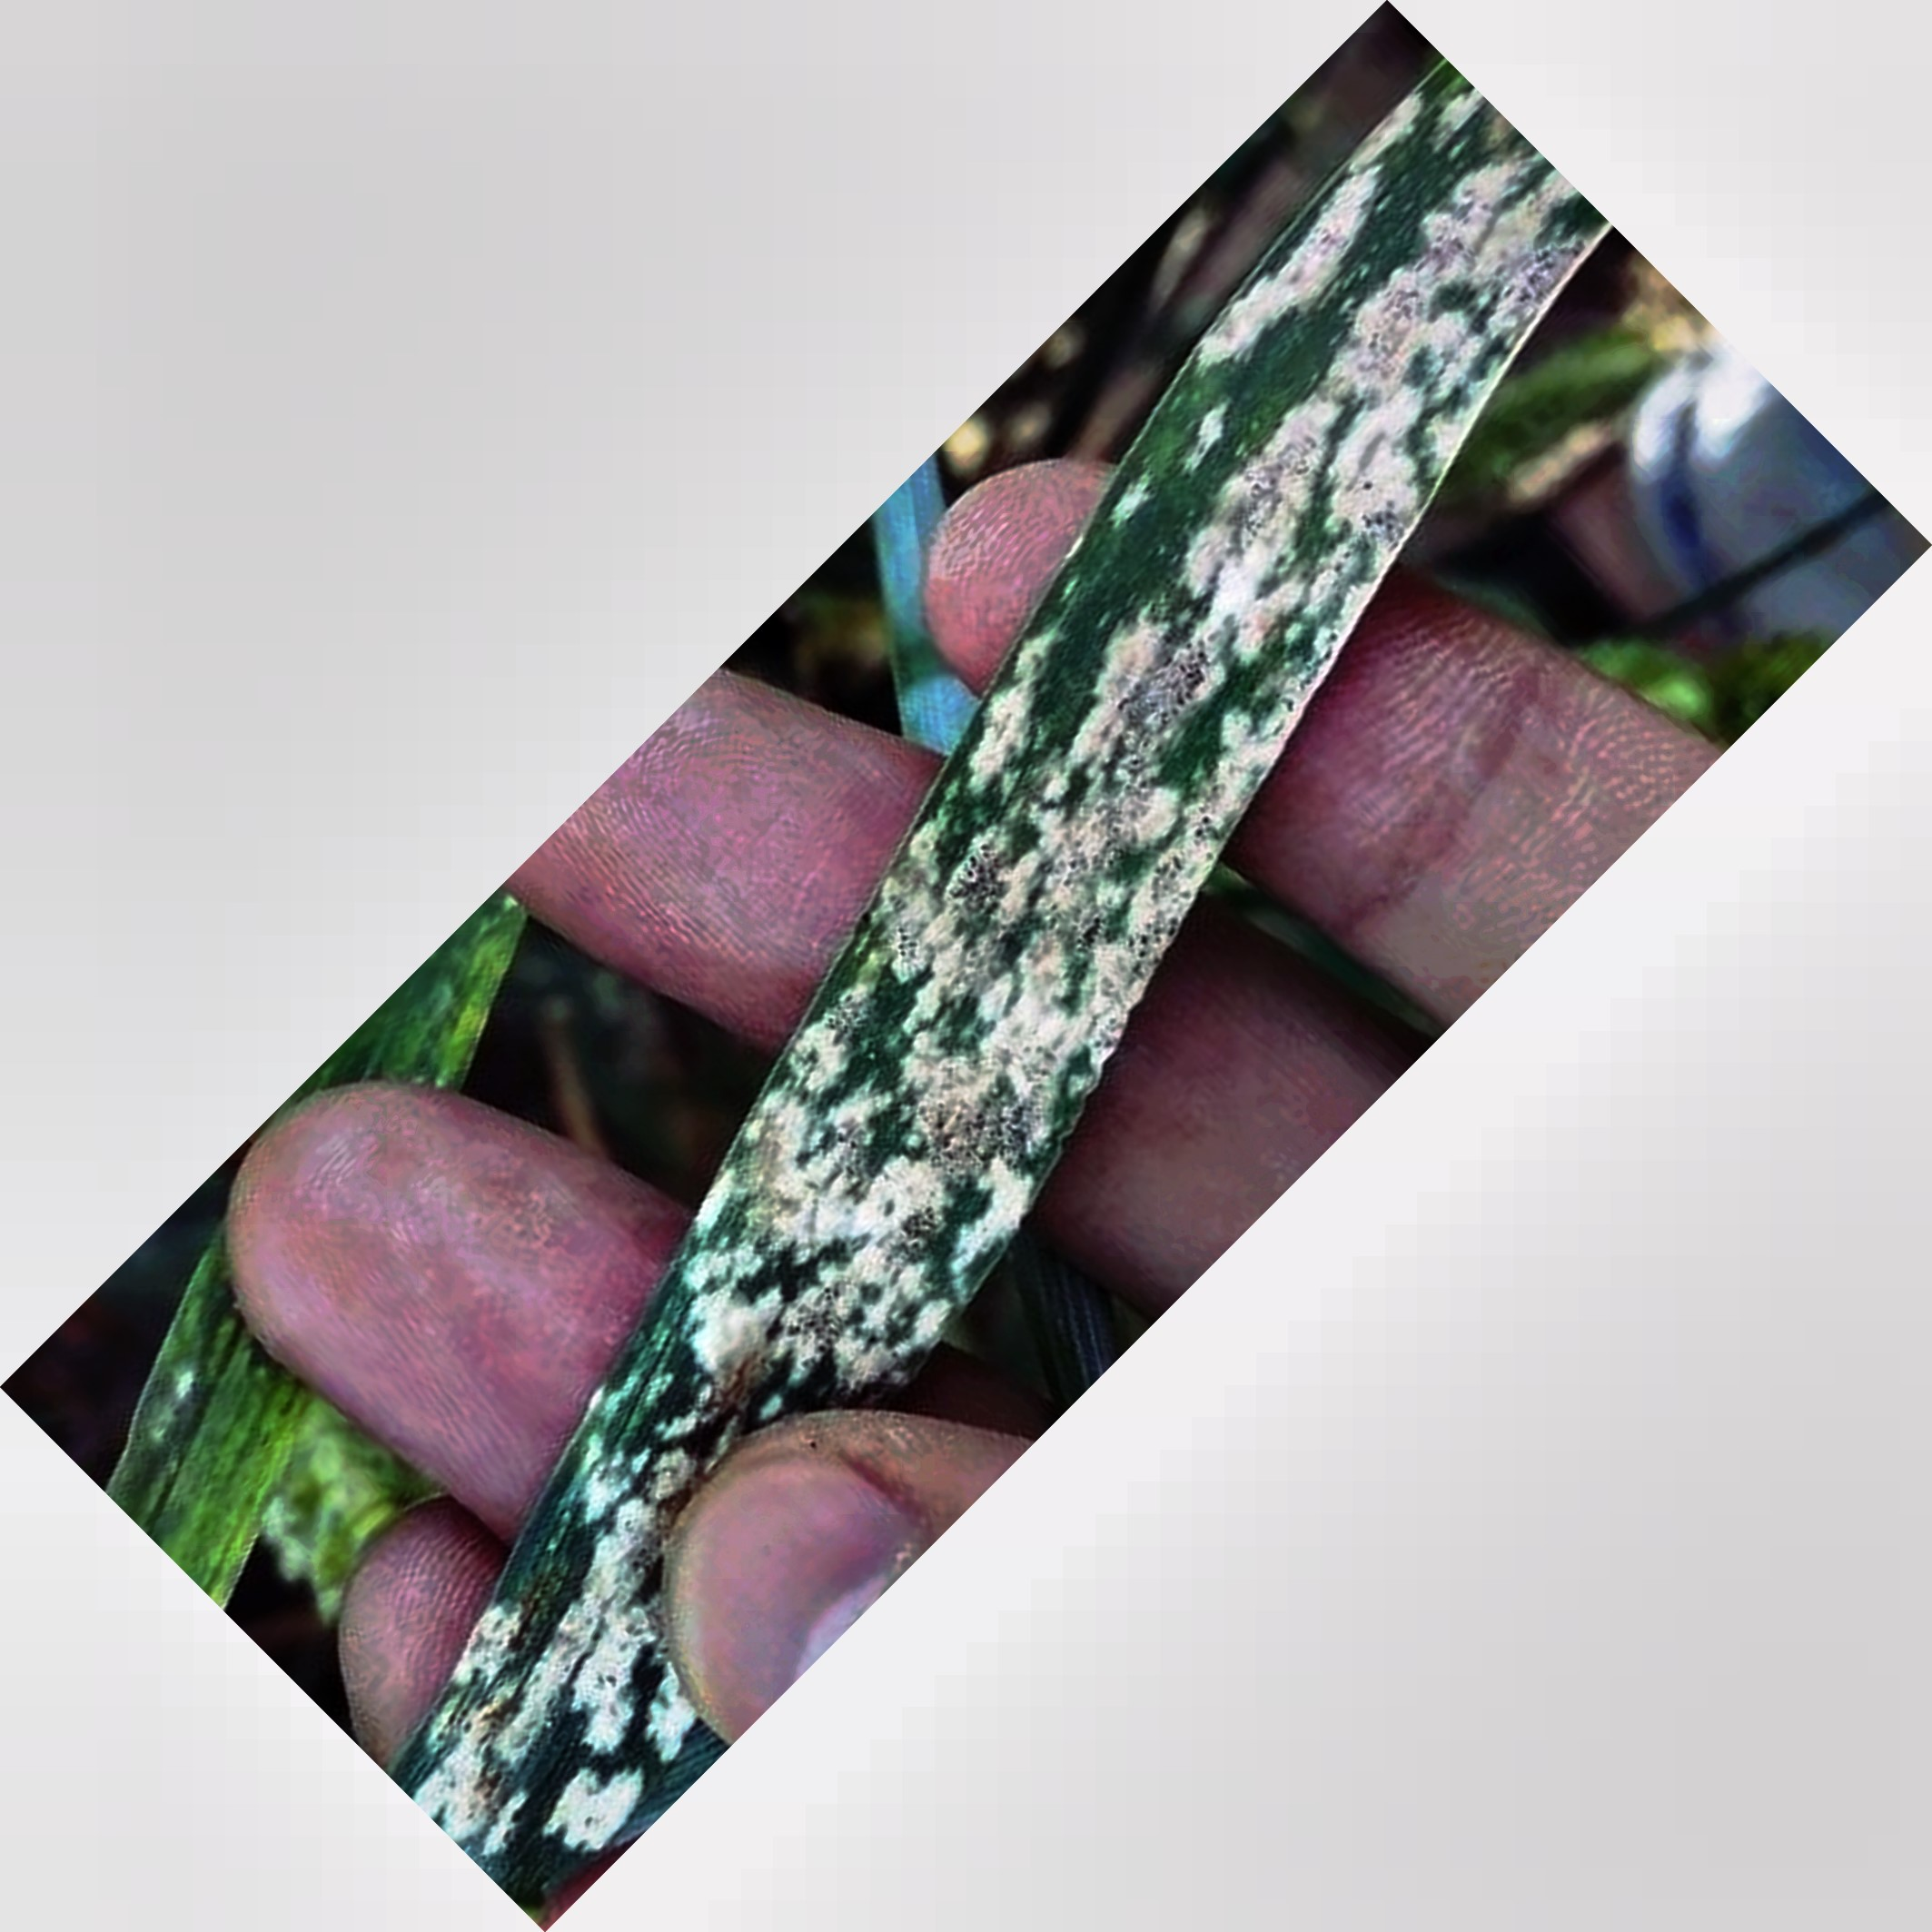Powdery Mildew: (479, 274, 1449, 1810)
